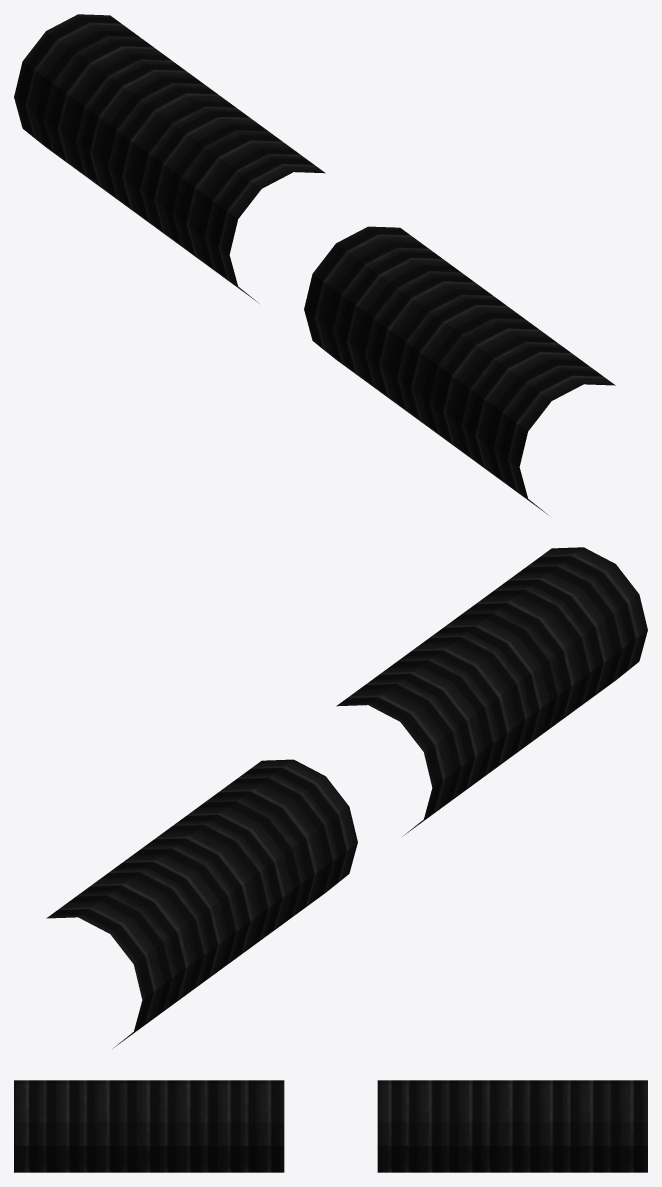
File: jytg001-geode.glb
3 views of the same model, one above another, from view 1: azimuth 30°, elevation 25°; view 2: azimuth 150°, elevation 25°; view 3: azimuth 270°, elevation 25° (orthographic). The views are drawn at different scales.
Parts seen in each view (by area): view 1: Node; view 2: Node; view 3: Node.
Part boxes in pixels (x1,y1,x2,y2): Node: (14,14,615,514); Node: (46,547,647,1047); Node: (14,1080,647,1172).
Bounding box in the file's own units: 0.3328 × 0.3328 × 2.27.
1 material, 1 textured.
